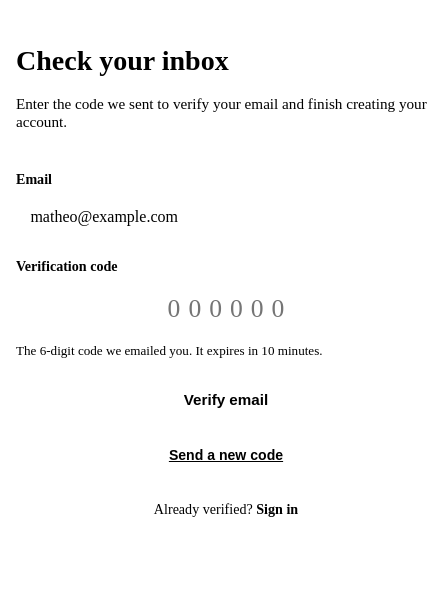
Test: VerifyEmailPage › asks for a new code
Click the button "Send a new code" at (226, 455), box [169,447,283,463]
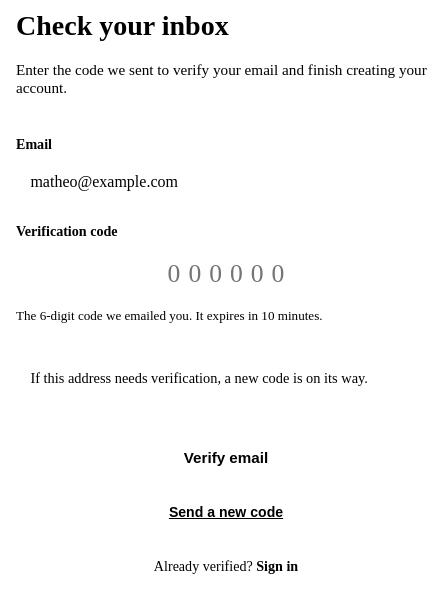
expect the text "a new code is on its way" is shown: met, box [30,370,368,386]
